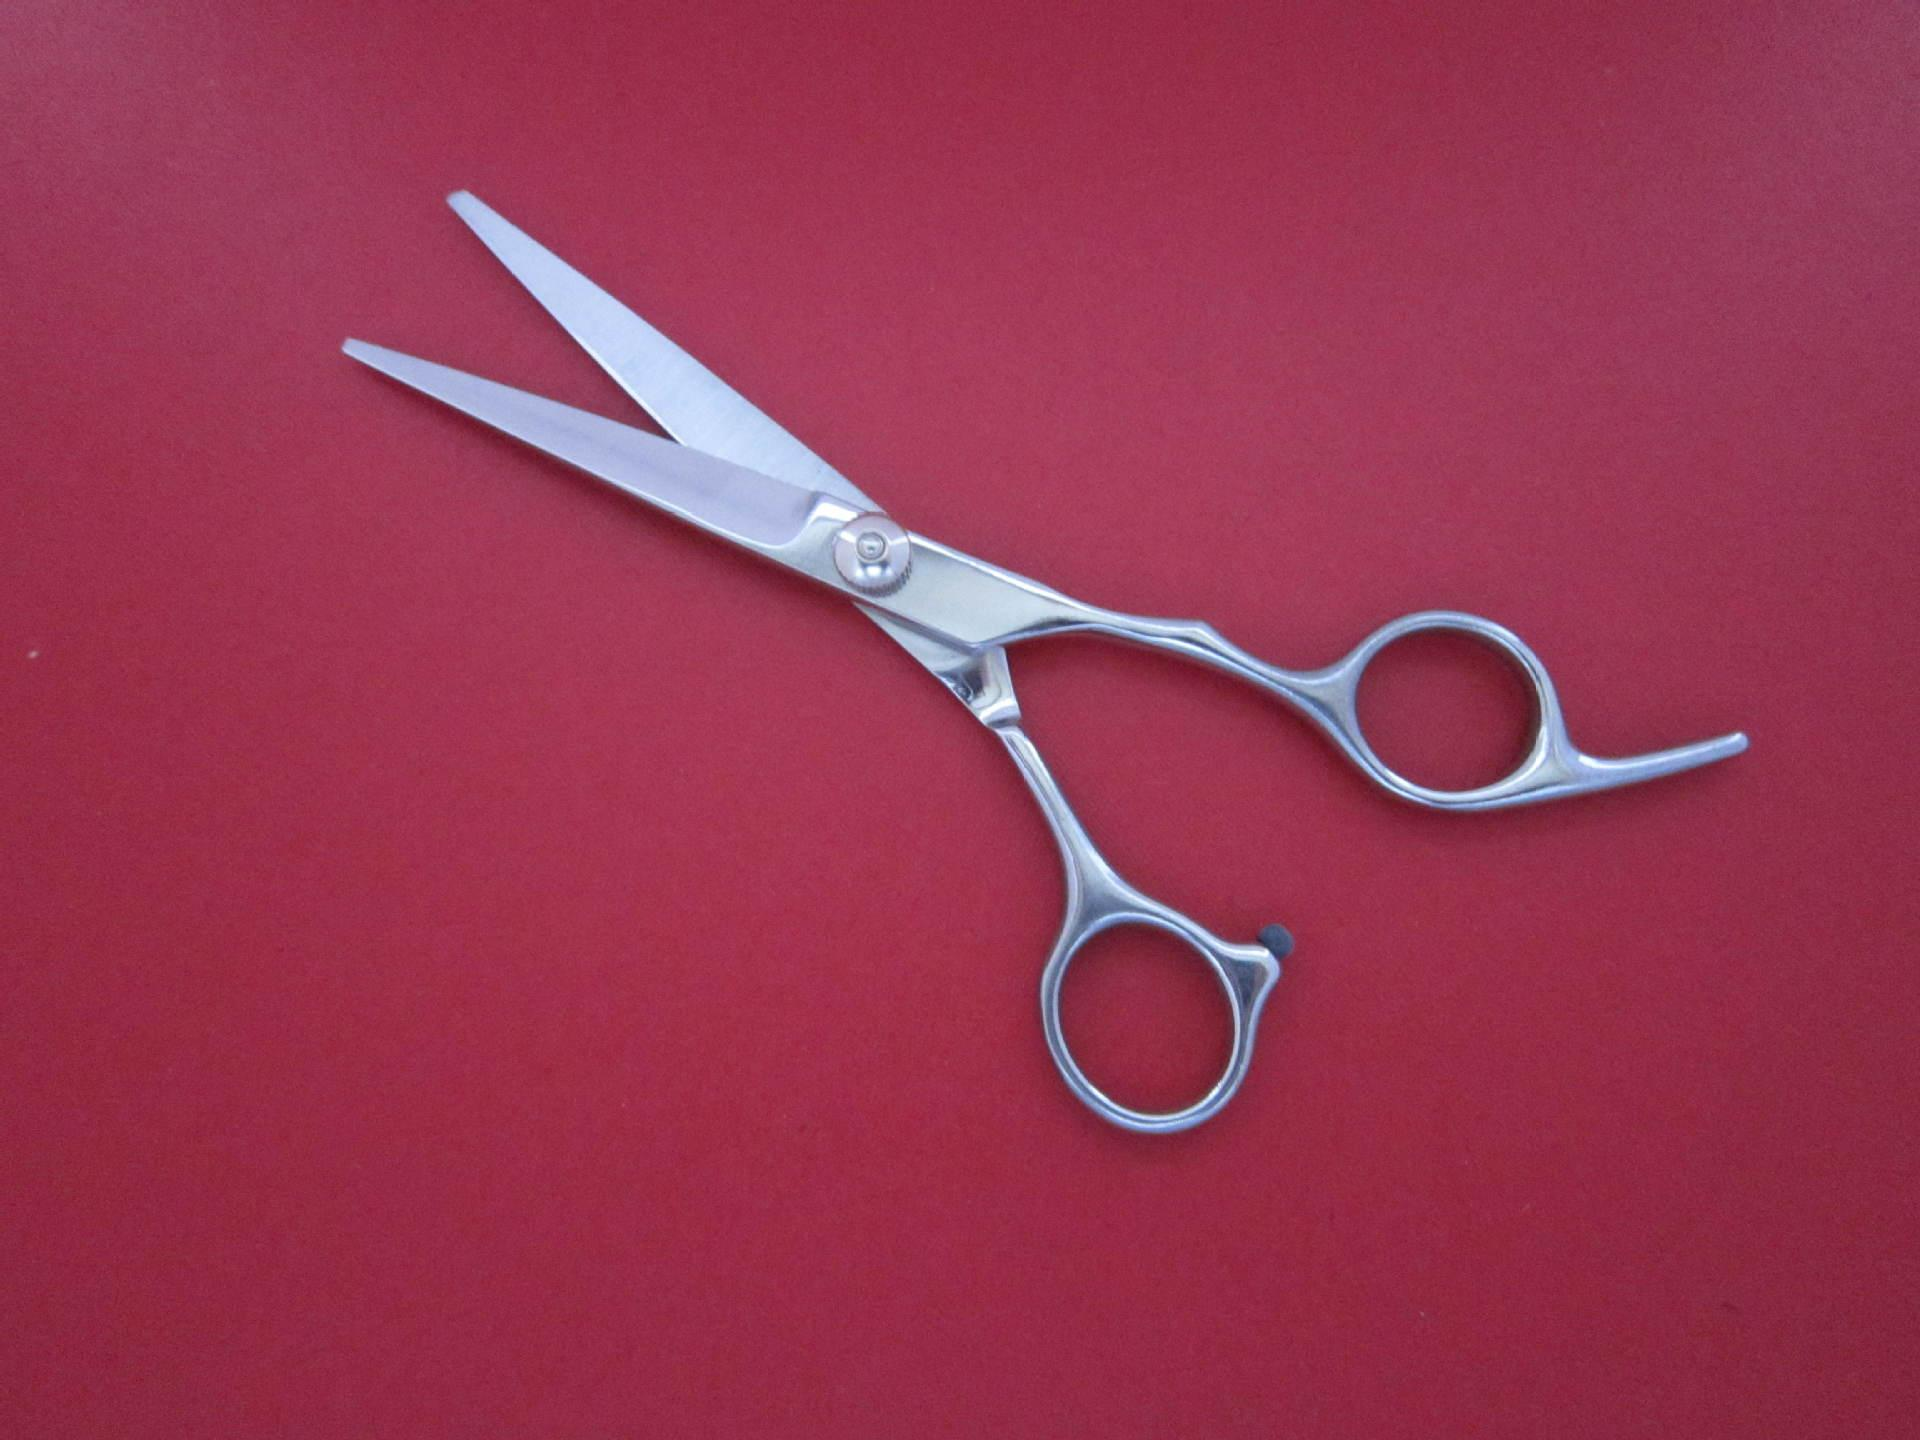scissor: (302, 163, 1749, 1209)
